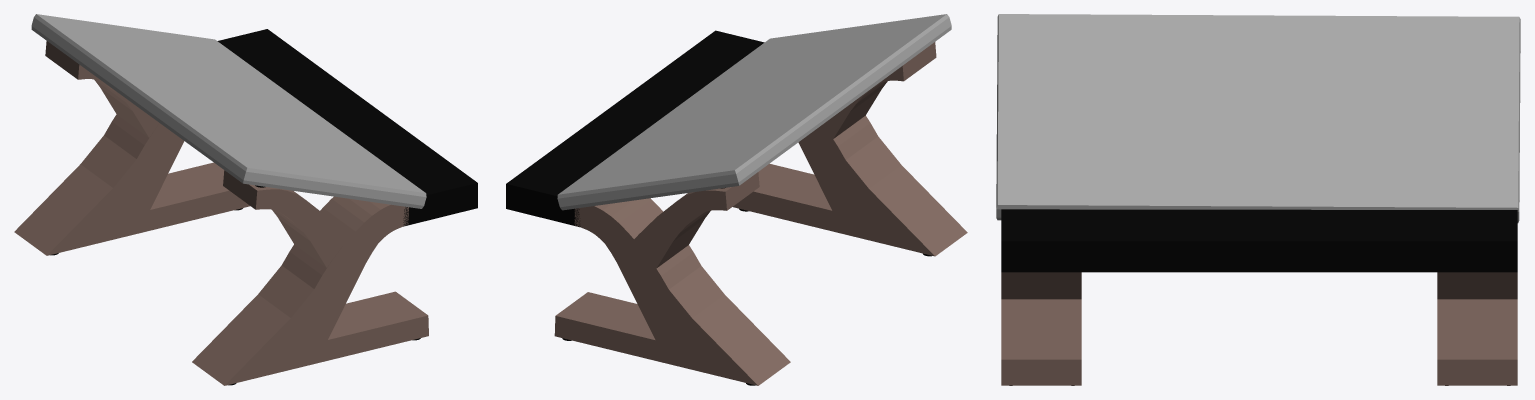
Rendered from table.fbx.
3 views of the same model, side by side, from view 1: azimuth 30°, elevation 25°; view 2: azimuth 150°, elevation 25°; view 3: azimuth 270°, elevation 25° (orthographic). The views are drawn at different scales.
Parts seen in each view (by area): view 1: polySurface15; view 2: polySurface15; view 3: polySurface15.
Boxes of the visible parts, <box> form: polySurface15: <box>14,14,477,385</box>; polySurface15: <box>506,14,967,385</box>; polySurface15: <box>996,14,1520,385</box>.
Bounding box in the file's own units: 41.19 × 33.57 × 60.15.
